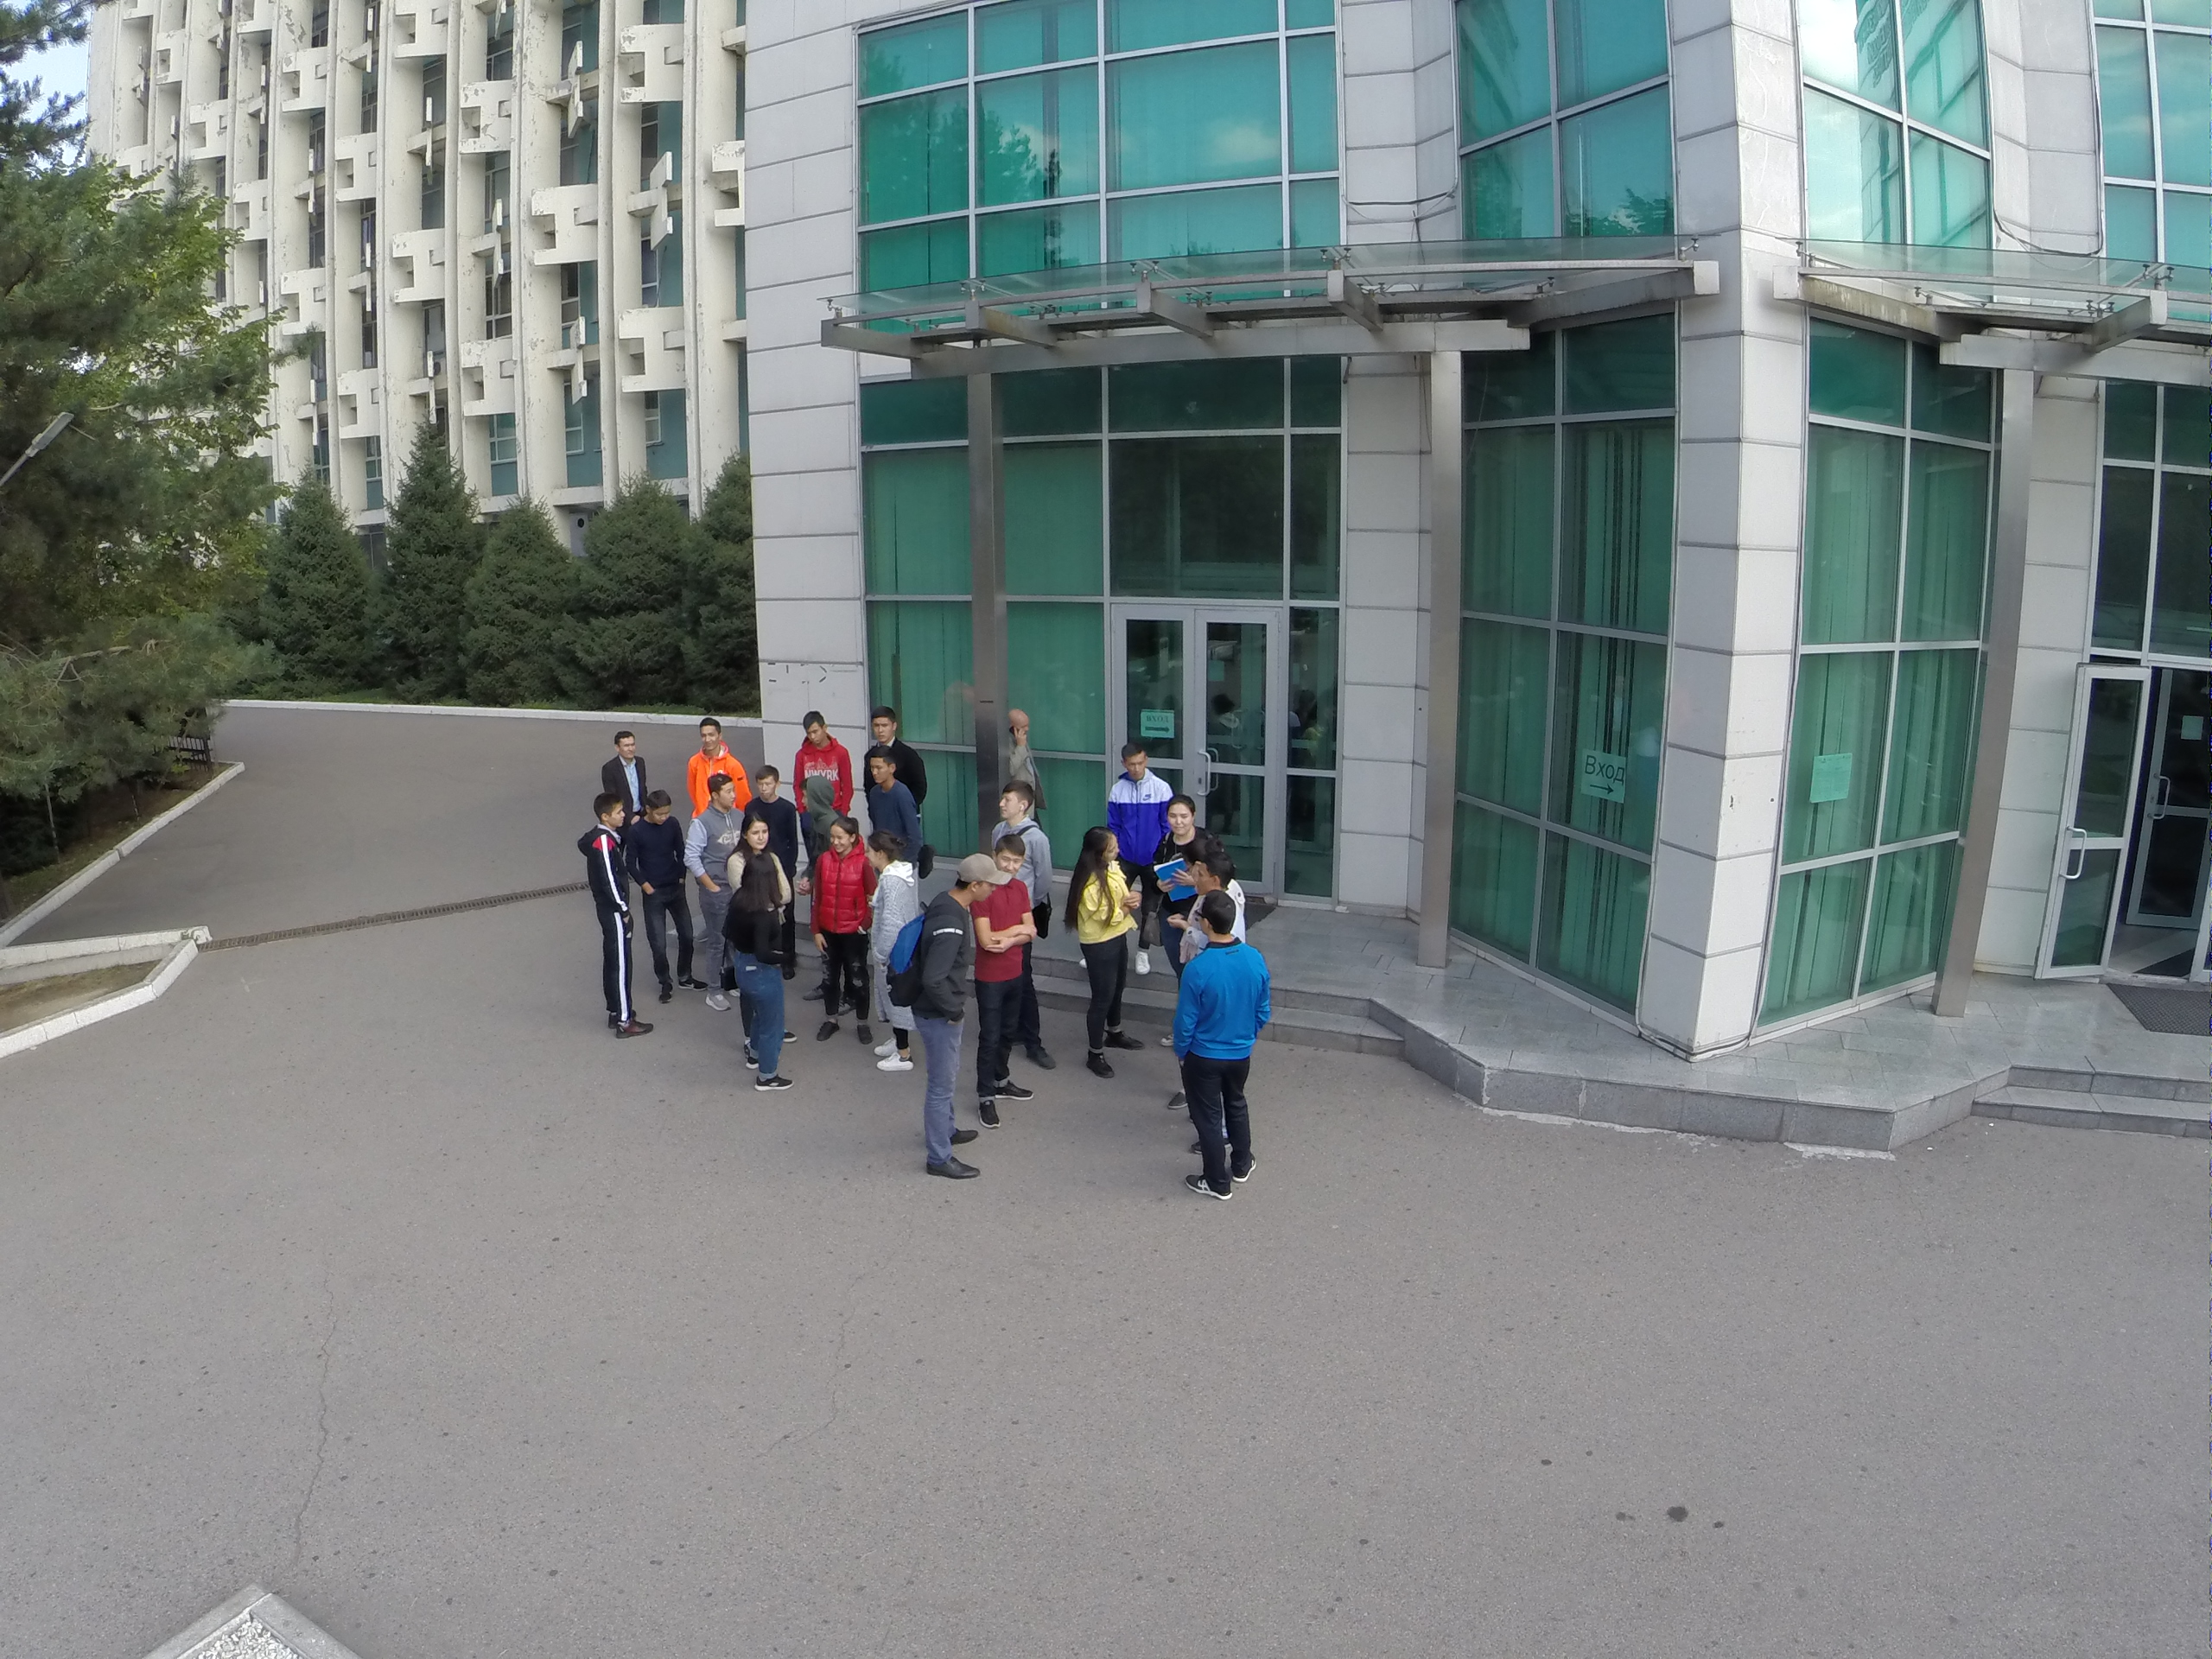person: (895, 858, 988, 1185), (1164, 889, 1260, 1202), (969, 829, 1034, 1129), (578, 793, 646, 1046), (633, 786, 703, 1001), (1077, 842, 1138, 1087), (732, 868, 797, 1093), (1114, 741, 1168, 979), (817, 818, 876, 1040), (691, 772, 746, 1010), (867, 827, 917, 1079), (791, 709, 855, 782), (866, 753, 919, 840), (602, 723, 650, 808), (1001, 702, 1041, 791), (686, 716, 740, 770), (868, 707, 914, 751), (746, 804, 775, 868), (1192, 854, 1234, 894)
